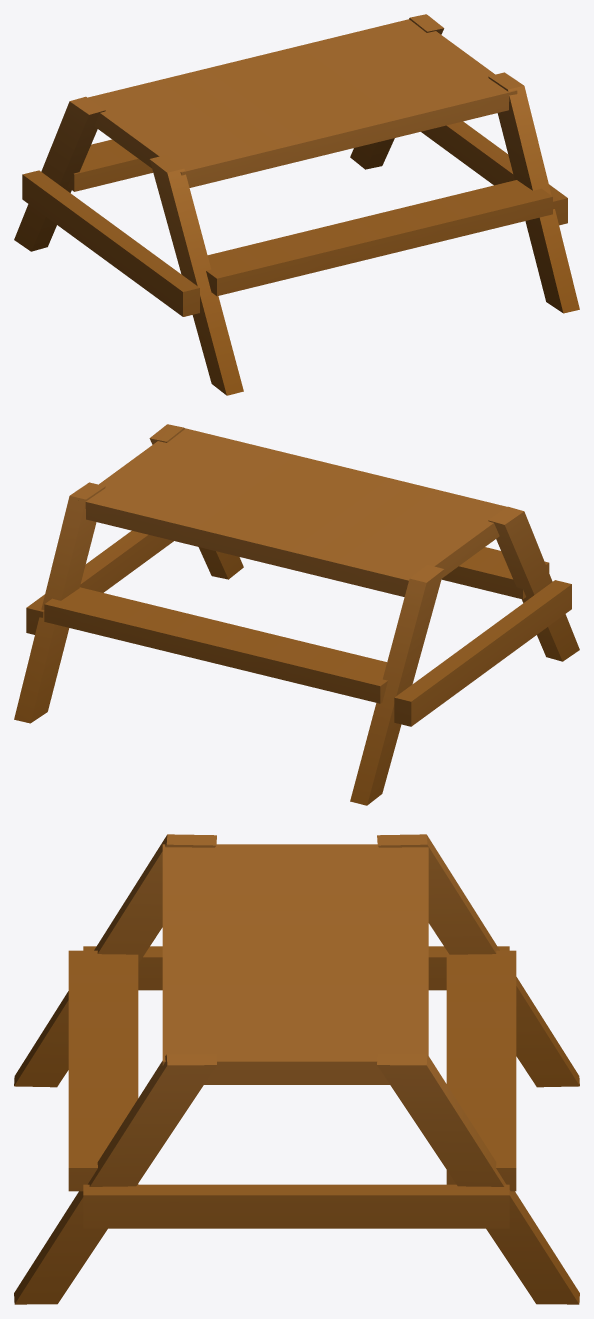
Rendered from Picnic_Bench_B.fbx.
3 renders of one model, top to bottom at view 1: azimuth 30°, elevation 25°; view 2: azimuth 150°, elevation 25°; view 3: azimuth 270°, elevation 25°, orthographic. The views are drawn at different scales.
Parts seen in each view (by area): view 1: Picnic_Bench_B; view 2: Picnic_Bench_B; view 3: Picnic_Bench_B.
Part boxes in pixels (bbox=[...]): Picnic_Bench_B: bbox=[14, 14, 579, 395]; Picnic_Bench_B: bbox=[14, 424, 579, 805]; Picnic_Bench_B: bbox=[14, 834, 579, 1304].
Size of the model in its own units: 198 by 89.6 by 191.
